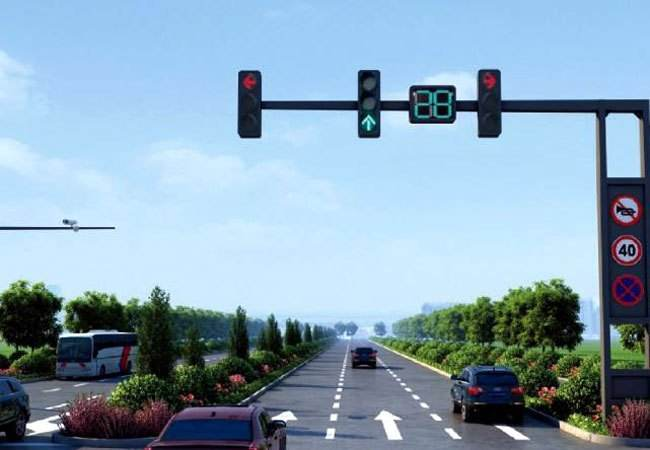green: (357, 68, 383, 143)
red: (235, 67, 267, 144), (476, 66, 504, 142)
